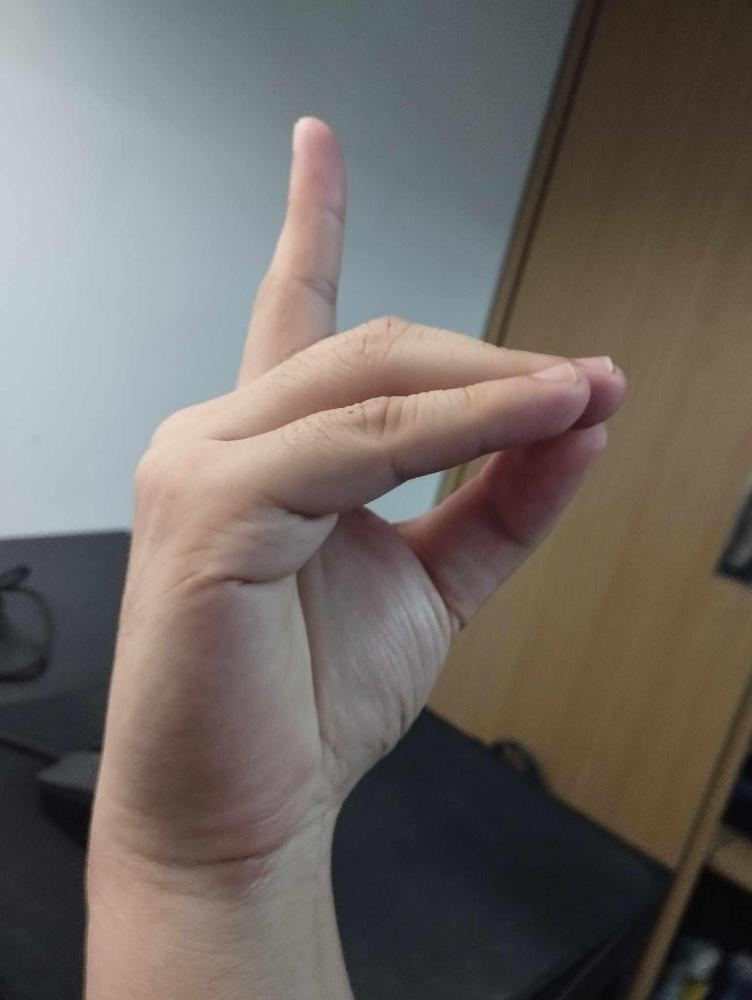d: (105, 111, 630, 863)
